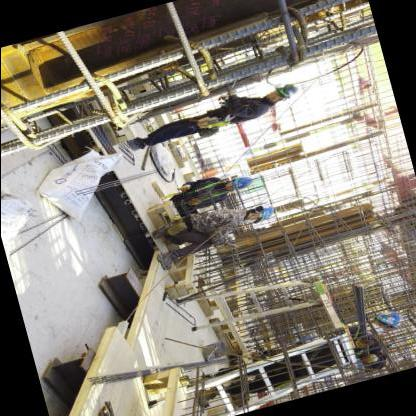safety-shoe: (153, 249, 183, 276), (143, 221, 179, 243), (119, 131, 147, 157)
